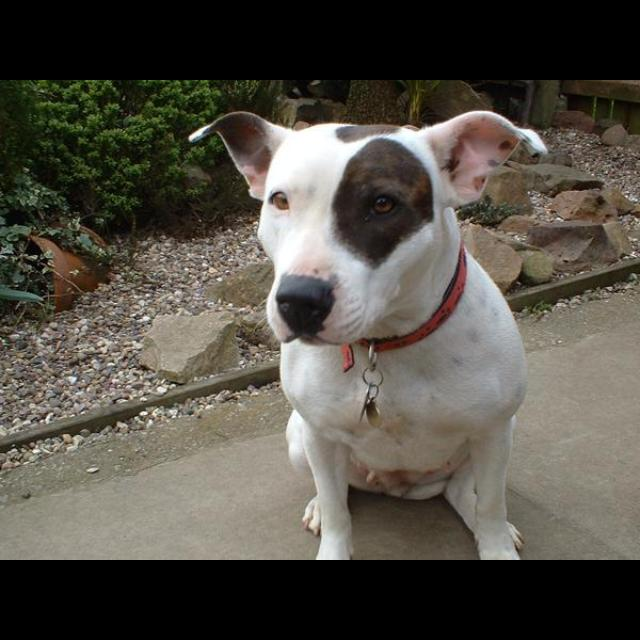staffford: (188, 108, 548, 560)
